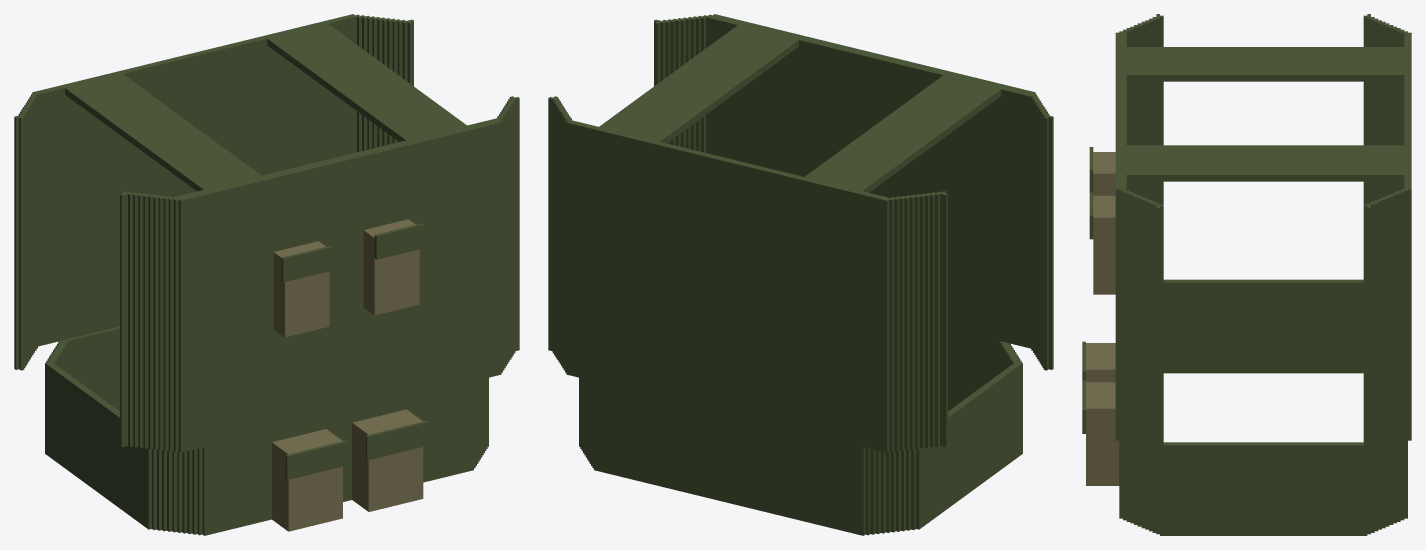
The model's file is utility_vest_worn_jacket.glb.
3 views of the same model, side by side, from view 1: azimuth 30°, elevation 25°; view 2: azimuth 150°, elevation 25°; view 3: azimuth 270°, elevation 25° (orthographic).
Visible parts, largest first — view 1: shell:compound; view 2: shell:compound; view 3: shell:compound.
Boxes of the visible parts, left/top/right/bottom form: shell:compound: left=14, top=14, right=519, bottom=535; shell:compound: left=548, top=14, right=1053, bottom=535; shell:compound: left=1082, top=14, right=1411, bottom=535.
Size of the model in its own units: 0.496 by 0.408 by 0.356.
